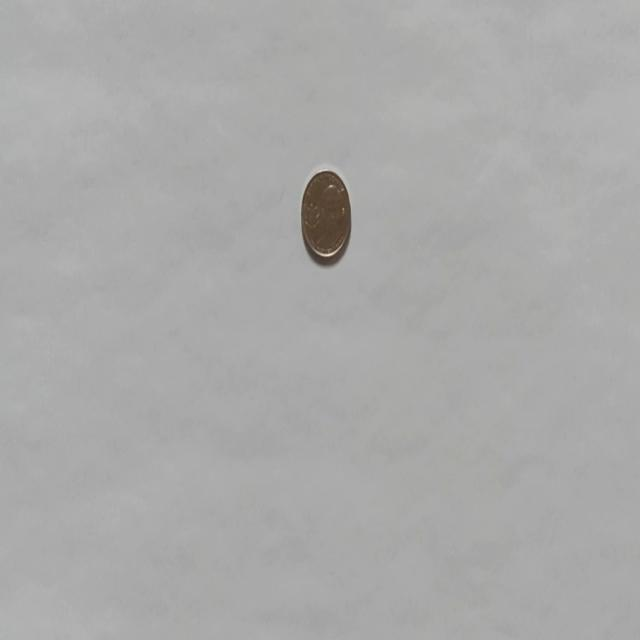seribu rupiah koin: (299, 165, 352, 262)
